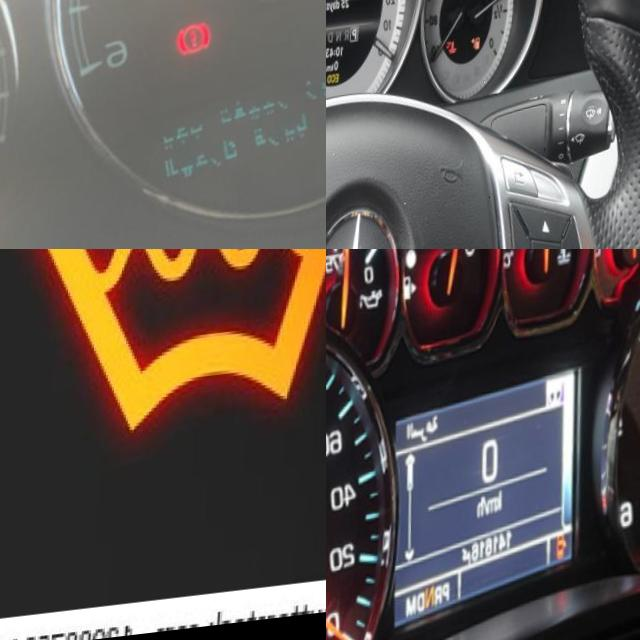Washer Fluid: (0, 249, 326, 458)
